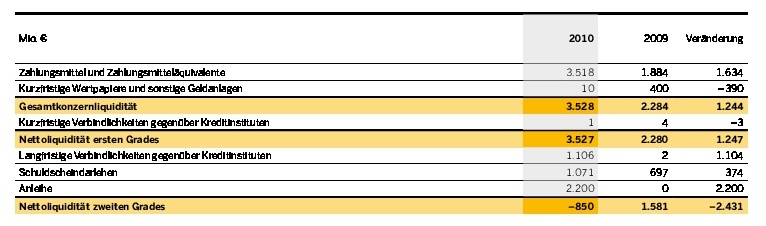table: (0, 0, 766, 226)
